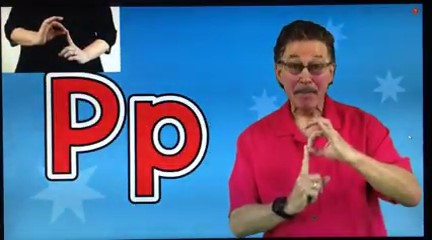P: (281, 109, 350, 226)
